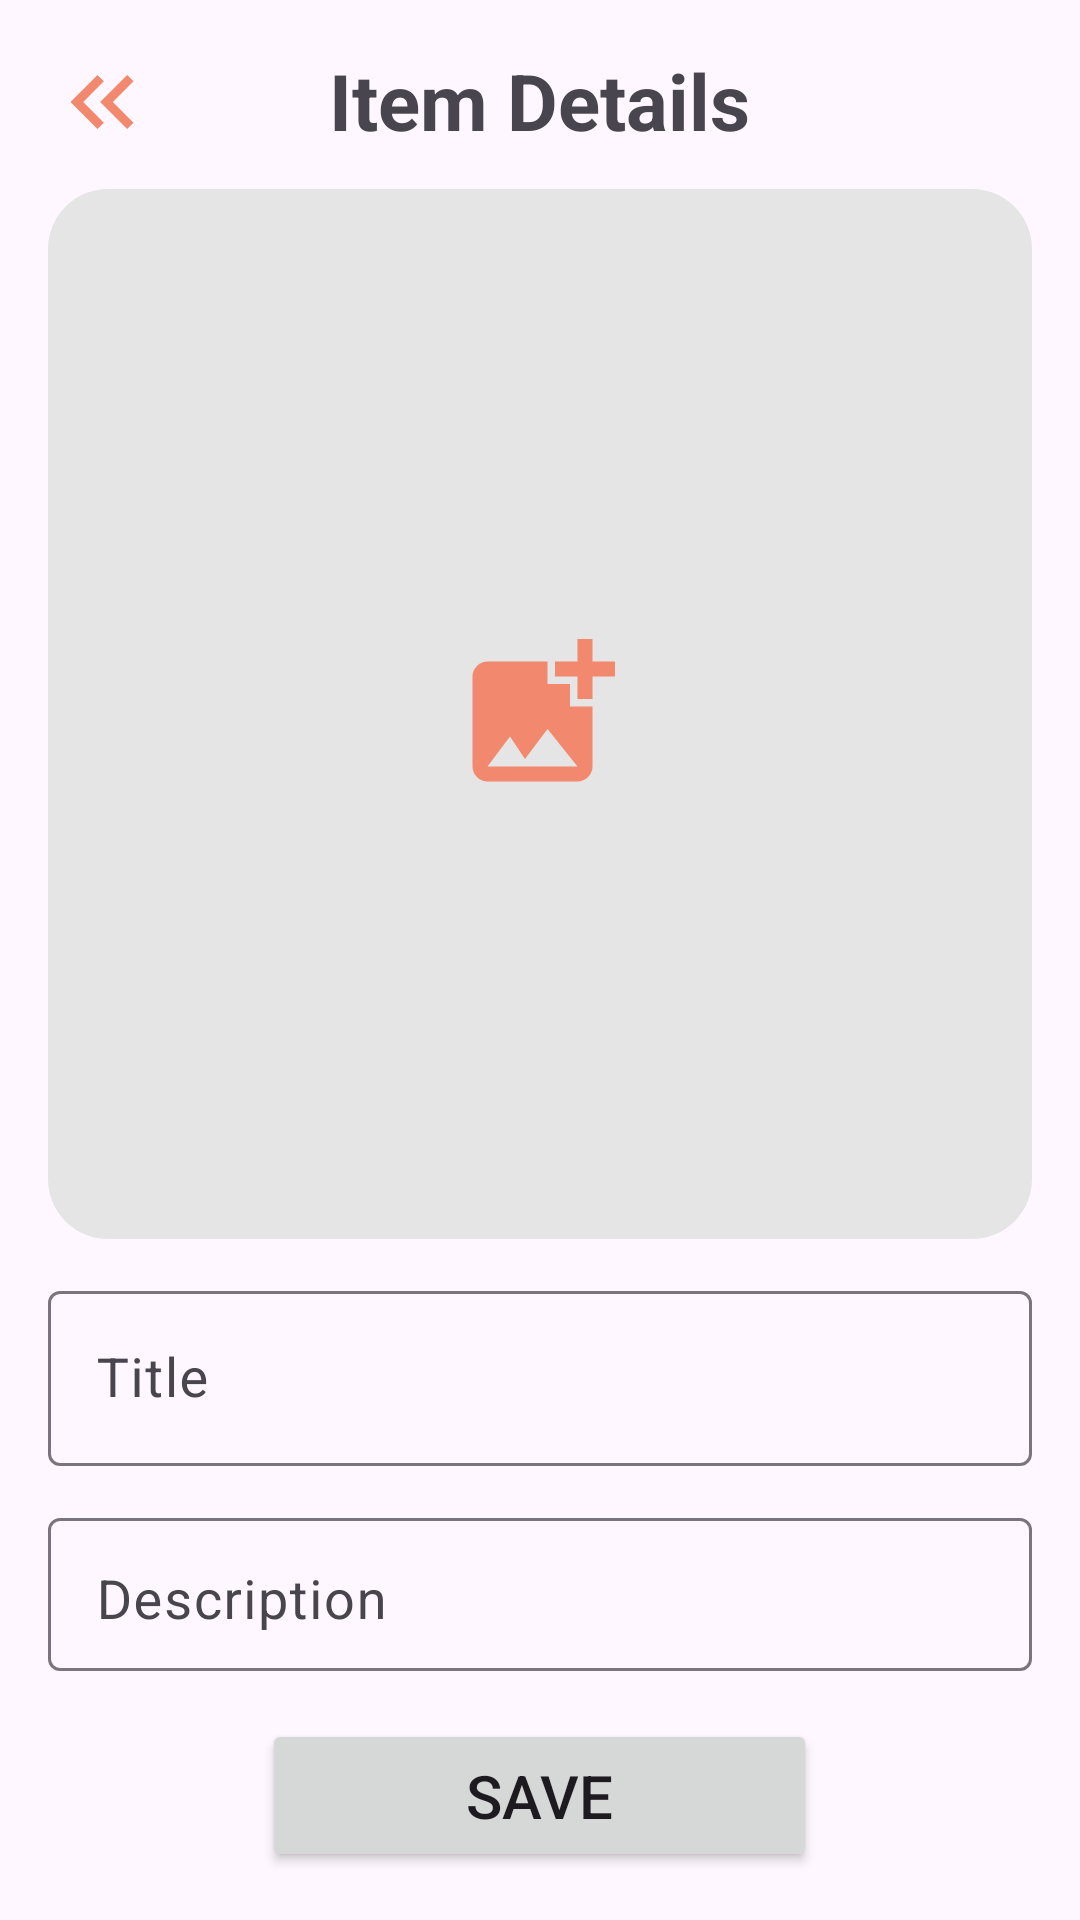

Point at icon controls on the screen. Image size 1080px×1920px, points as (x,y).
keyboard double arrow left: (102,102)
